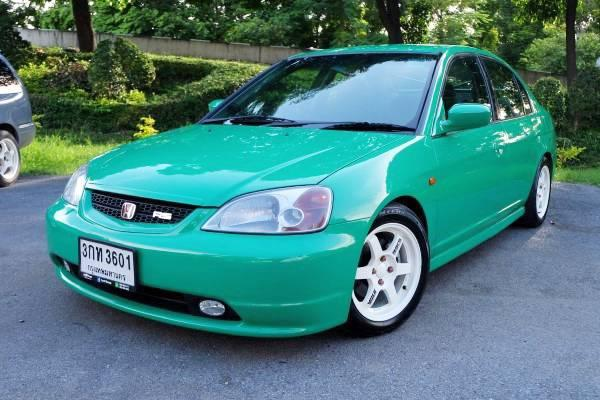license-plate: (74, 233, 140, 298)
